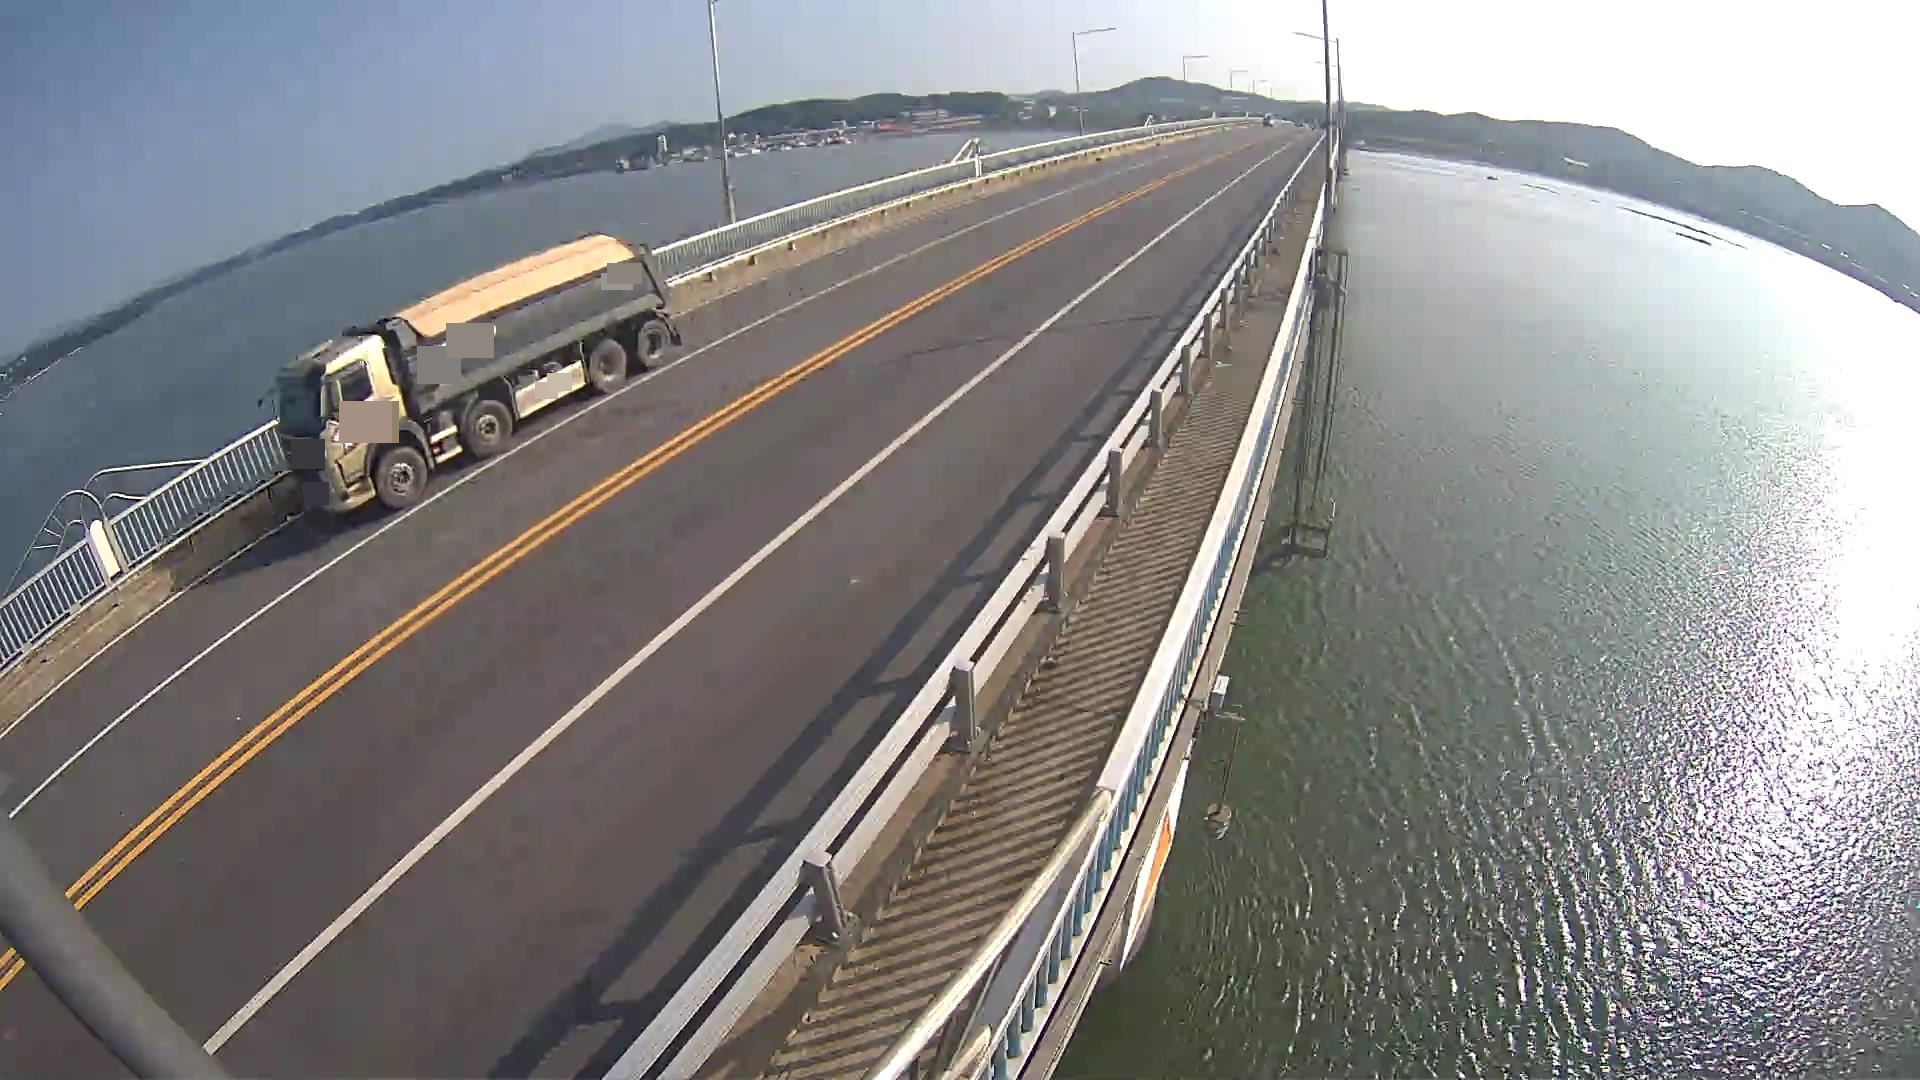정상차량: (257, 232, 682, 510)
